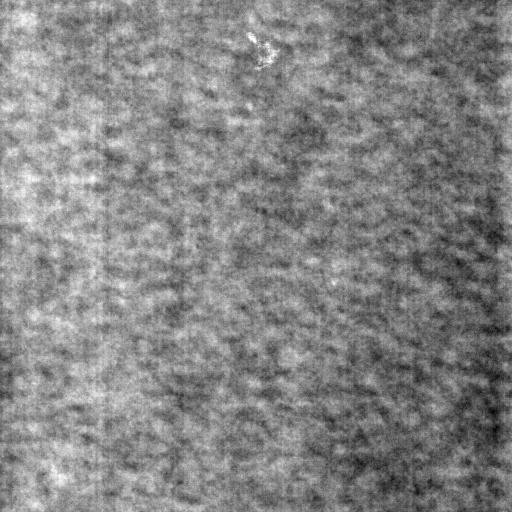DefectTypeA: (244, 33, 281, 70)
